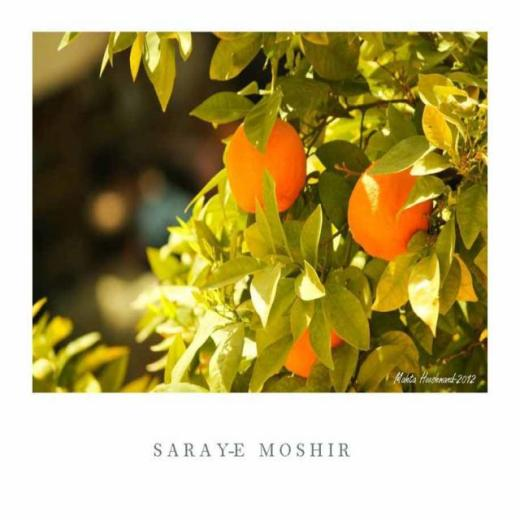Grape: (348, 164, 441, 258)
